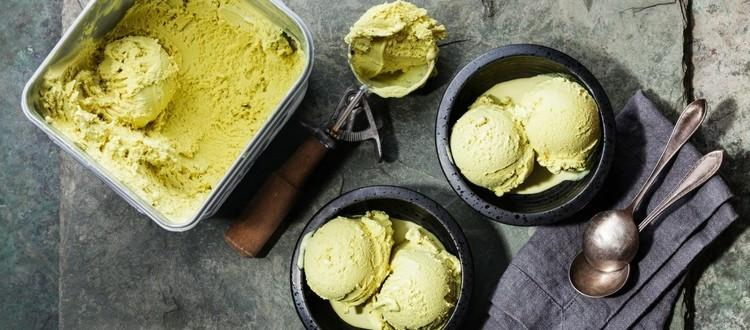ice-cream: (55, 4, 305, 200), (520, 78, 599, 170), (304, 217, 386, 304), (352, 5, 432, 92), (451, 107, 533, 190), (103, 40, 176, 126), (381, 249, 452, 330)
